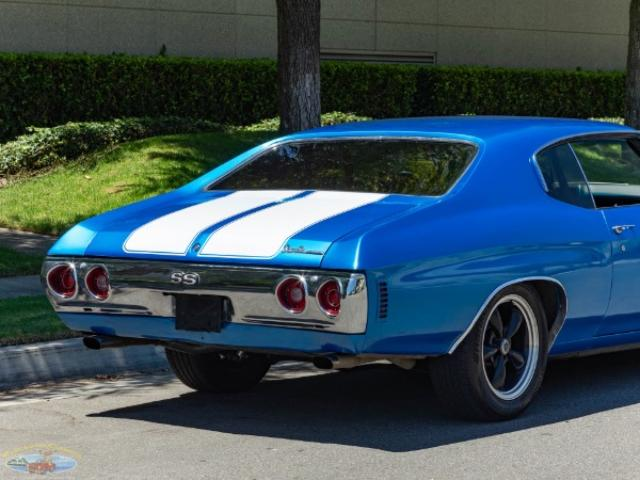chevelle-1972: (42, 116, 639, 419)
